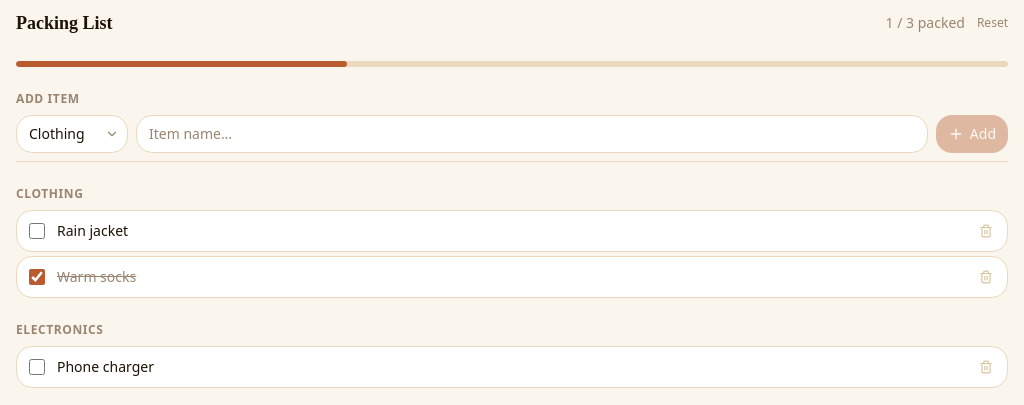
Test: ChecklistTab › removes an item from the list optimistically on delete
Expected: the text "Rain jacket" is shown, x1=57 y1=221 x2=128 y2=240
Click the button named "Delete Rain jacket" at [986, 231], box x1=977 y1=222 x2=995 y2=240
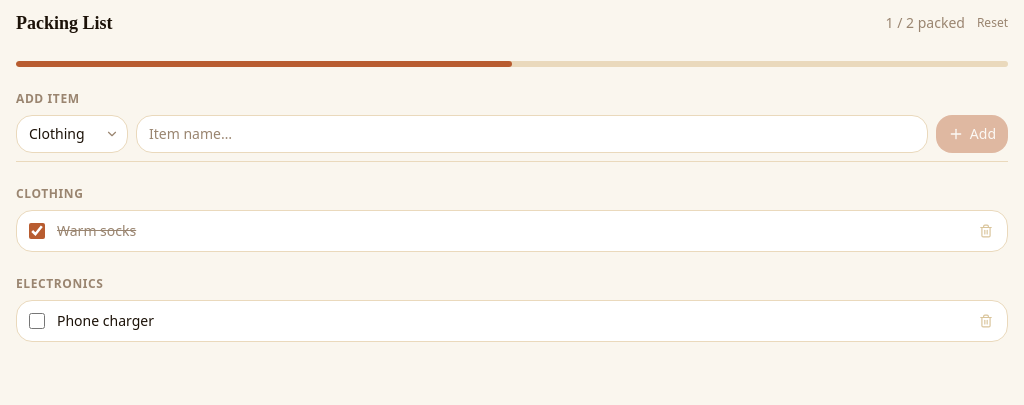
Expected: the text "Rain jacket" is gone
